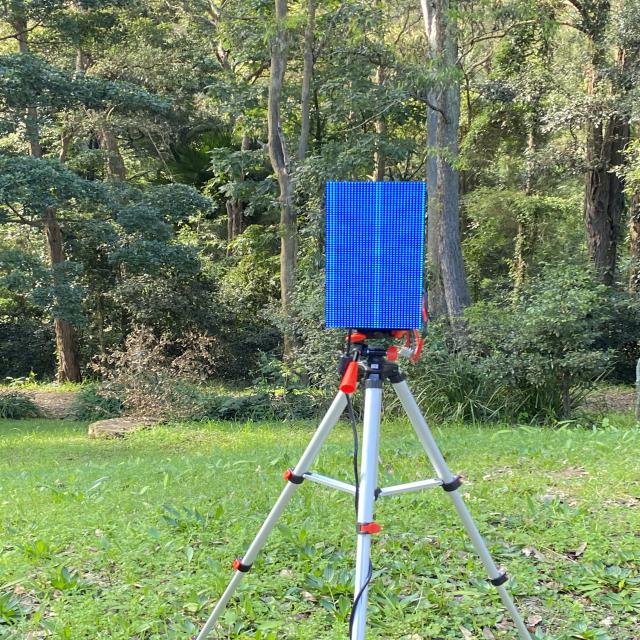matrix: (324, 174, 428, 335)
